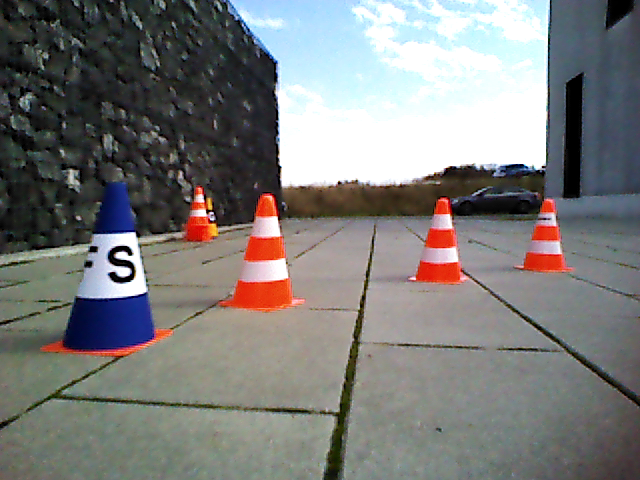bluecone: (64, 182, 157, 350)
orangeconesmall: (230, 193, 295, 306), (416, 196, 462, 282), (523, 198, 566, 272)
